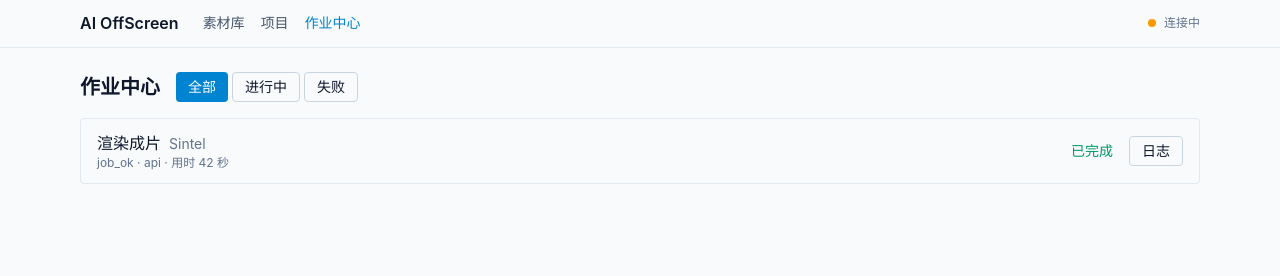
Test case: job log › opens and closes the log of a job
Click the button "日志". click: (1156, 151)
box: [1129,136,1183,166]
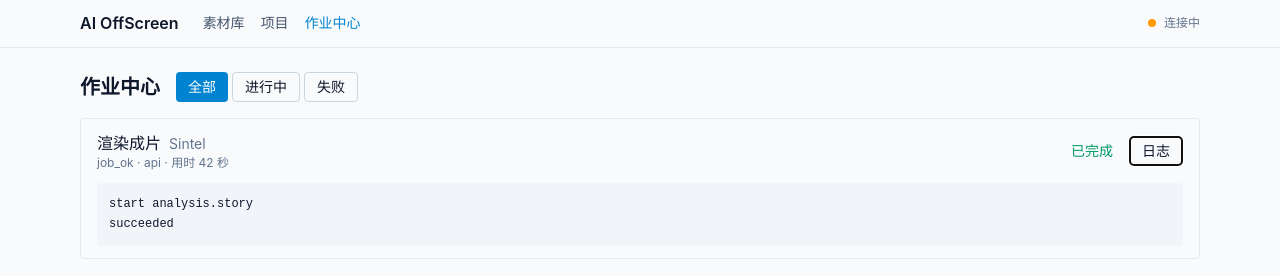
Check: the text named "作业日志" shows "start analysis.story", box [109,197,253,230]
Check: the text named "作业日志" shows "succeeded", box [109,197,253,230]
Click the button "日志". click: (1156, 151)
box: [1129,136,1183,166]
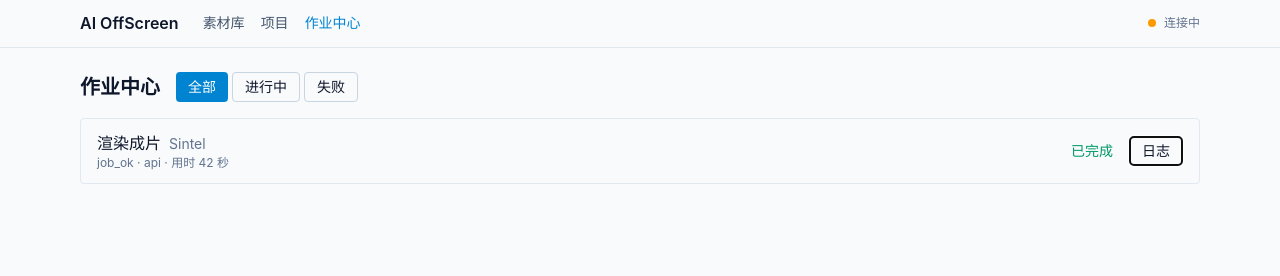
Check: the text labelled "作业日志" is gone
